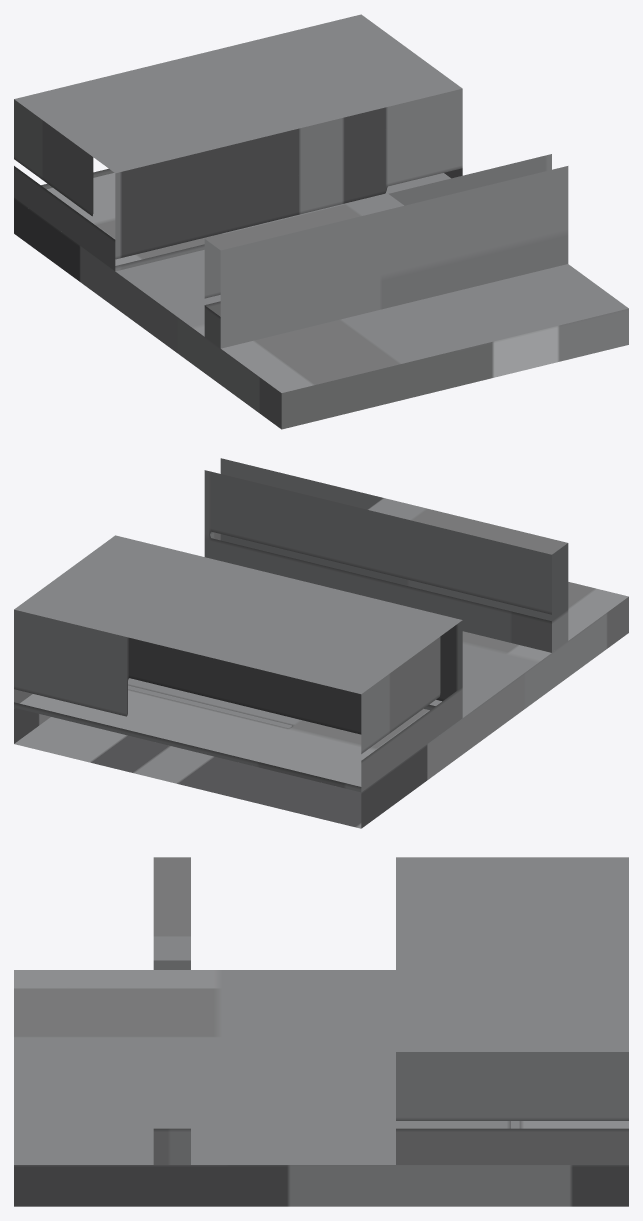
3 renders of one model, top to bottom at view 1: azimuth 30°, elevation 25°; view 2: azimuth 150°, elevation 25°; view 3: azimuth 270°, elevation 25°, orthographic. The views are drawn at different scales.
Bounding box in the file's own units: 0.985 × 0.3645 × 1.31.
